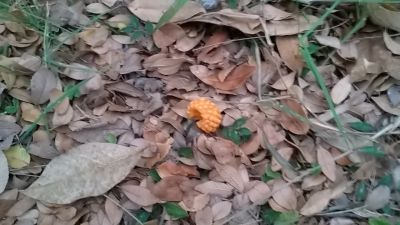eggs: (187, 97, 222, 134)
